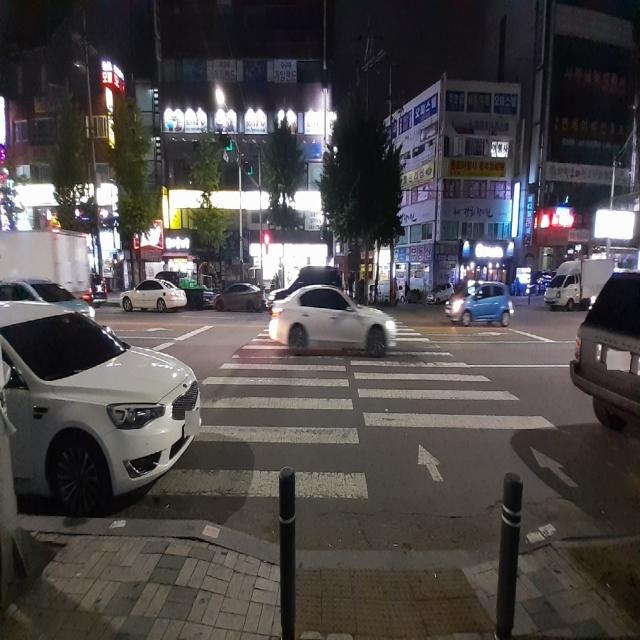빨간불: (265, 234, 269, 247)
횡단보도: (145, 321, 581, 500)
